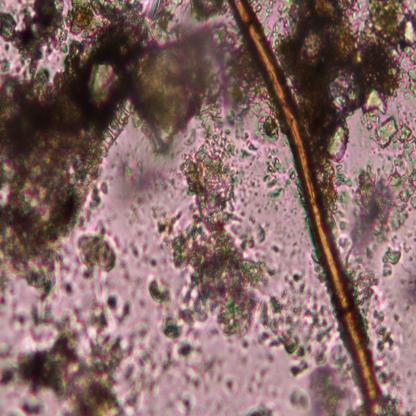Background material: (0, 1, 231, 300), (287, 0, 416, 167), (166, 128, 263, 346), (0, 307, 161, 415), (256, 274, 350, 372), (373, 115, 416, 241), (0, 0, 69, 72), (164, 350, 236, 412), (346, 169, 392, 264), (289, 365, 355, 415), (116, 151, 172, 202), (116, 220, 159, 276), (75, 232, 118, 272), (351, 264, 382, 314), (371, 302, 396, 352), (250, 108, 280, 144), (261, 156, 284, 202), (106, 291, 134, 327), (242, 357, 266, 398), (261, 238, 295, 265), (146, 204, 176, 234), (150, 273, 176, 304), (89, 180, 110, 214), (382, 247, 402, 282), (160, 313, 184, 339), (248, 221, 268, 245), (244, 401, 272, 415), (174, 338, 195, 356), (235, 115, 248, 139)
